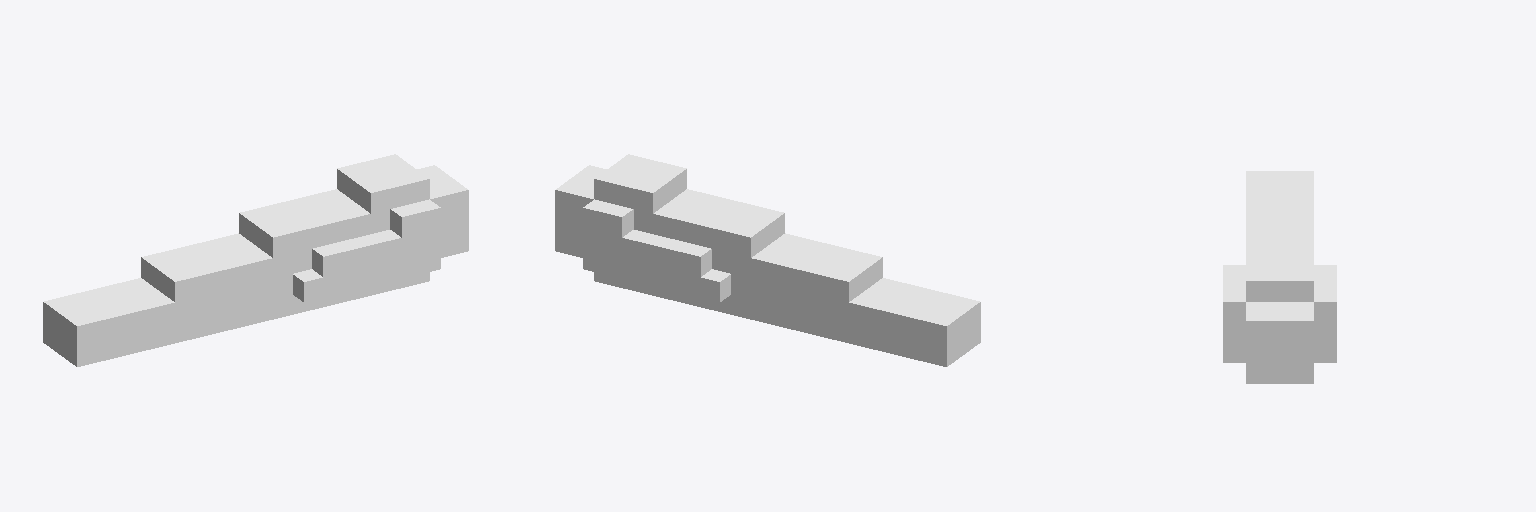
File: SnakeHead.obj
3 renders of one model, left to right at view 1: azimuth 30°, elevation 25°; view 2: azimuth 150°, elevation 25°; view 3: azimuth 270°, elevation 25°, orthographic.
Parts seen in each view (by area): view 1: object 1; view 2: object 1; view 3: object 1.
Part boxes in pixels (left/top/right/bottom): object 1: left=43, top=154, right=468, bottom=366; object 1: left=555, top=154, right=980, bottom=366; object 1: left=1223, top=171, right=1336, bottom=383.
Bounding box in the file's own units: 2 × 0.5 × 0.5.